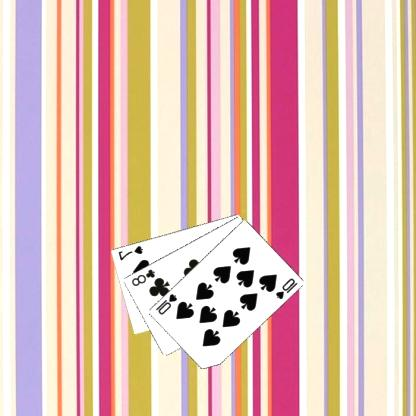10S: (275, 275, 300, 301), (155, 291, 180, 316)
7S: (117, 243, 146, 262)
8C: (131, 266, 157, 287)
